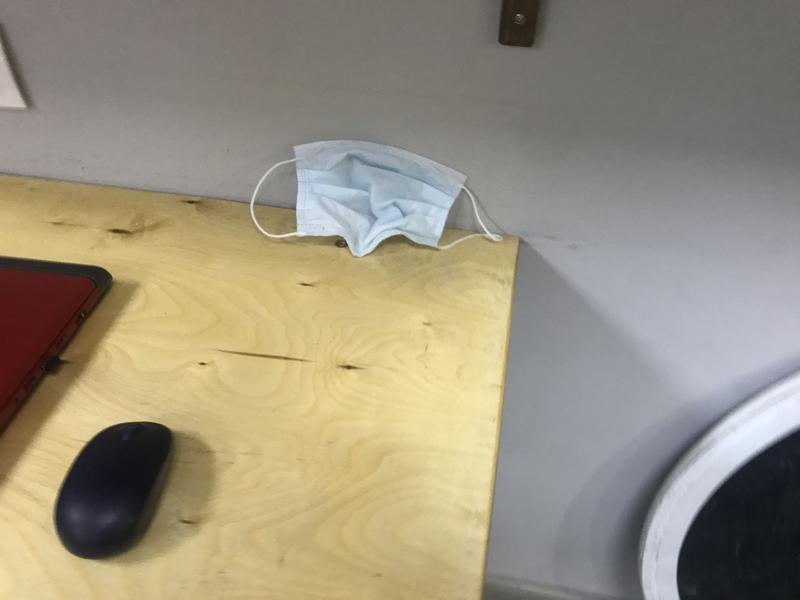medical_mask: (252, 143, 503, 253)
